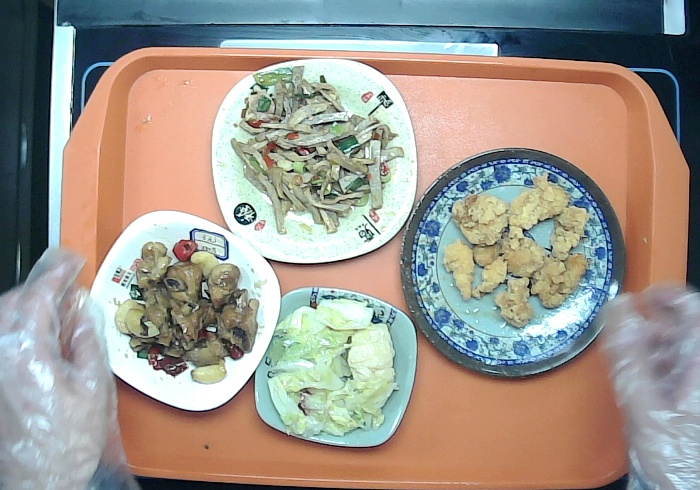NLDX-Bai_Se_Xiao_Fang_Die: (83, 207, 289, 418)
NLDX-Fu_Zi_Fang_Die: (203, 50, 423, 275)
NLDX-Qing_Hua_Xiao_Fang_Die: (246, 282, 422, 454)
NLDX-Qing_Hua_Yuan_Die: (395, 142, 647, 383)
